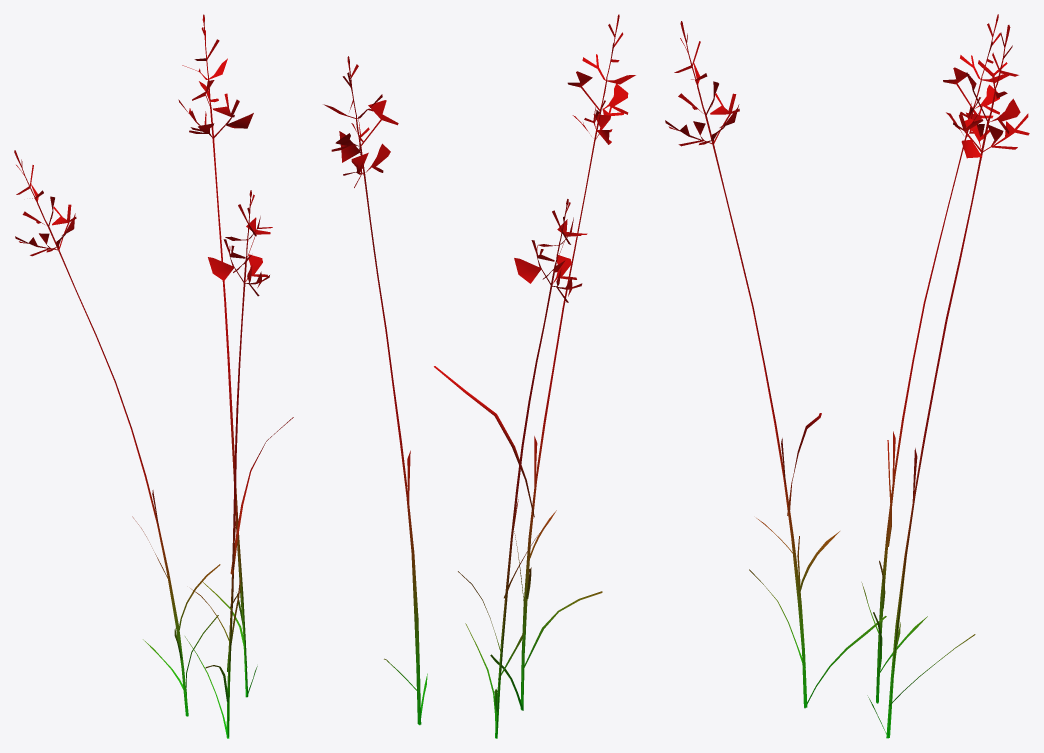
Rendered from Tundra Grass_LOD1_Var9_wk2oaeyqx.fbx.
3 renders of one model, left to right at view 1: azimuth 30°, elevation 25°; view 2: azimuth 150°, elevation 25°; view 3: azimuth 270°, elevation 25°, orthographic. The views are drawn at different scales.
Visible parts, largest first — view 1: _71md_Var9_LOD1; view 2: _71md_Var9_LOD1; view 3: _71md_Var9_LOD1.
Boxes of the visible parts, x1,y1,x2,y2 form: _71md_Var9_LOD1: (14, 14, 293, 738); _71md_Var9_LOD1: (323, 14, 635, 738); _71md_Var9_LOD1: (665, 14, 1029, 738).
Bounding box in the file's own units: 26.59 × 71.07 × 32.59.
